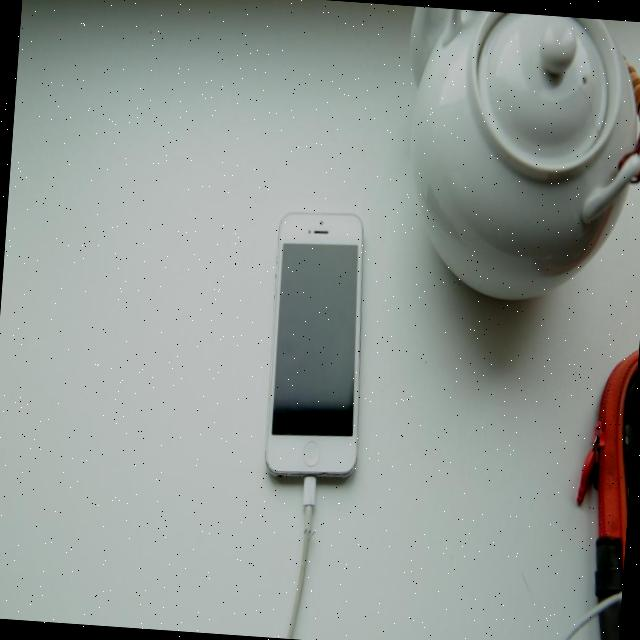Phone: (256, 198, 380, 486)
